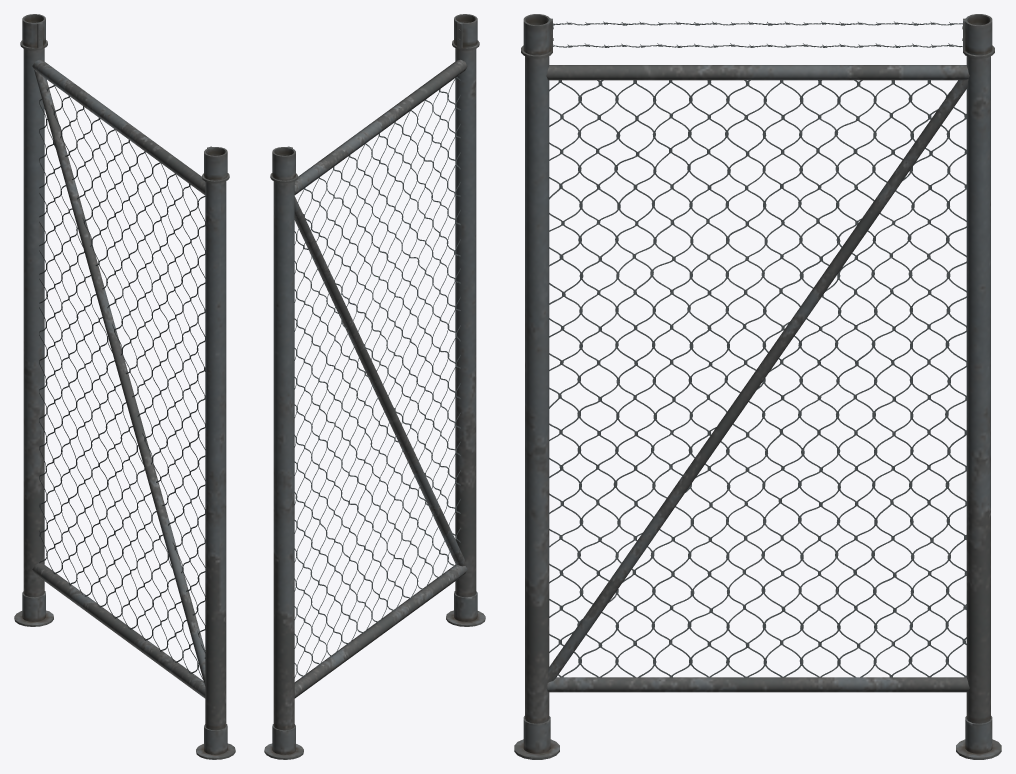
The model's file is SM_Fence_7.fbx.
3 renders of one model, left to right at view 1: azimuth 30°, elevation 25°; view 2: azimuth 150°, elevation 25°; view 3: azimuth 270°, elevation 25°, orthographic. The views are drawn at different scales.
Visible parts, largest first — view 1: SM_Fence_7_LOD0; view 2: SM_Fence_7_LOD0; view 3: SM_Fence_7_LOD0.
Part boxes in pixels (x1,y1,x2,y2): SM_Fence_7_LOD0: (14, 14, 235, 759); SM_Fence_7_LOD0: (264, 14, 485, 759); SM_Fence_7_LOD0: (514, 14, 1001, 759).
Size of the model in its own units: 17.14 by 173 by 286.
2 materials, 2 textured.
